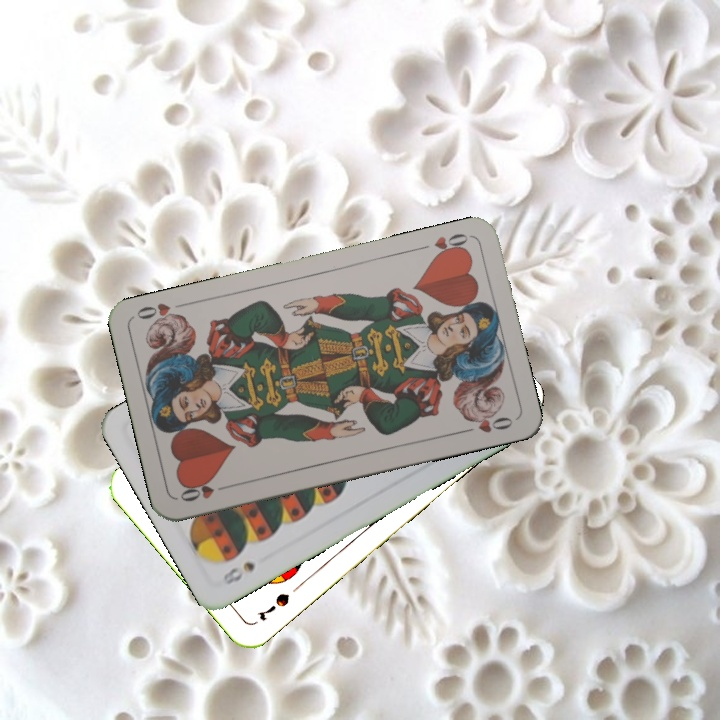HO: (414, 229, 471, 261), (176, 477, 233, 505)
S7: (252, 589, 292, 624)
S8: (218, 557, 258, 588)
